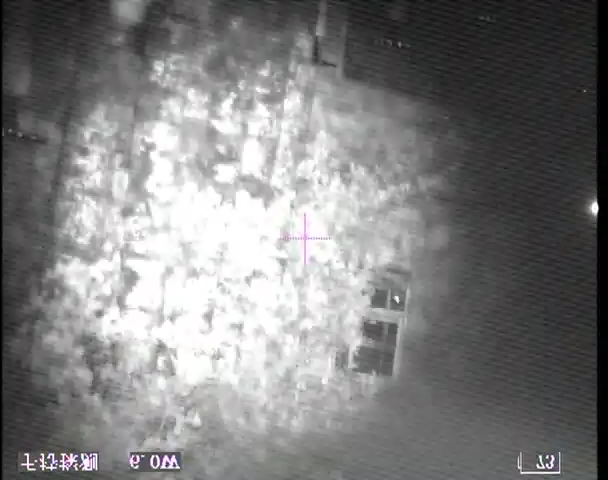my: (391, 294, 403, 306)
